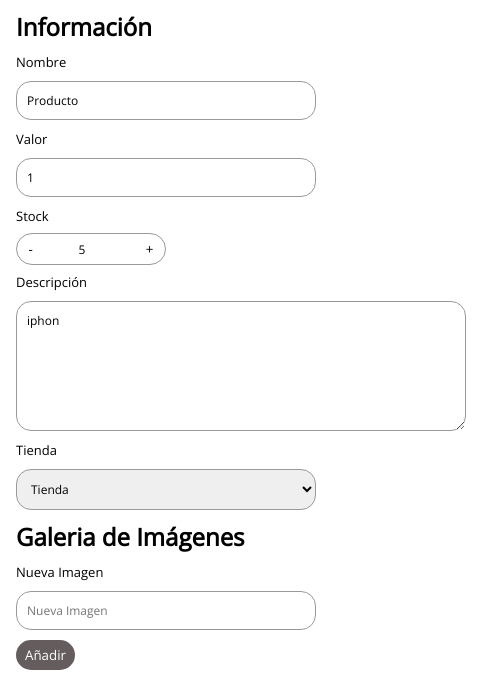
it: Testeando los inputs › El input del precio permite escribir sin sobreescribir el campo predeterminado
This screenshot has width=483, height=676.
Type "4" into the number field labelled "Valor". click: (166,178)
box: [16,158,316,197]
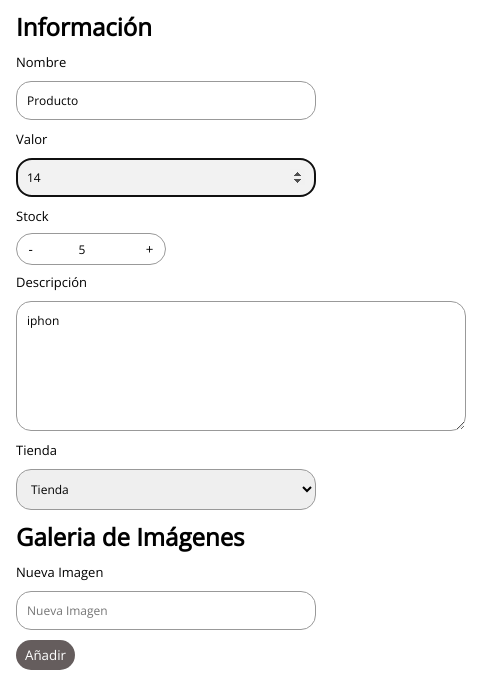
Expected: the number field labelled "Valor" holds "14", [16,158,316,197]
